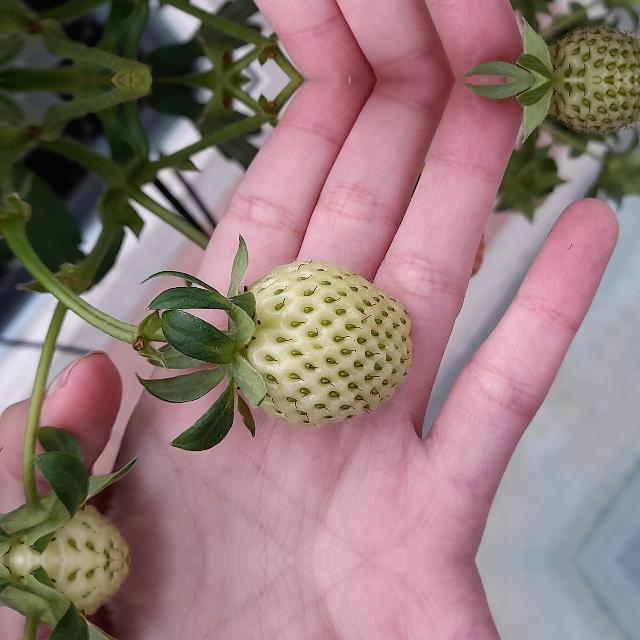Health_25: (246, 260, 412, 426)
